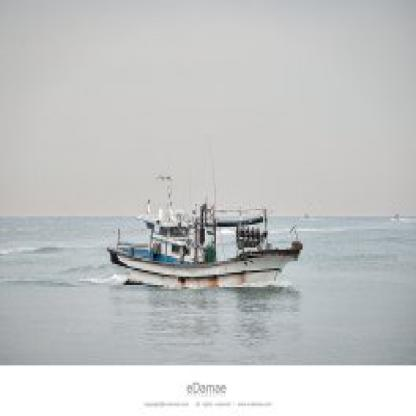fish-b: (102, 196, 306, 306)
